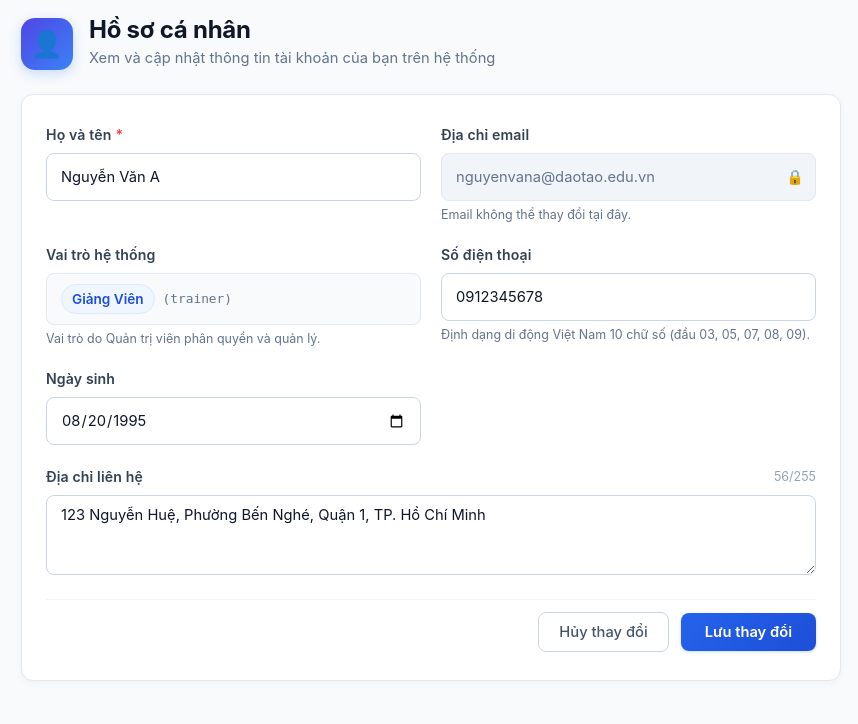
Test: SCRUM-120: Frontend Hồ sơ cá nhân (Activity A6) › 9. phone sai → không submit: hiển thị lỗi và chặn gửi request
Replace the text in the field with test id "input-profile-phone" with "0123456789" at (628,297), box [441,273,816,321]
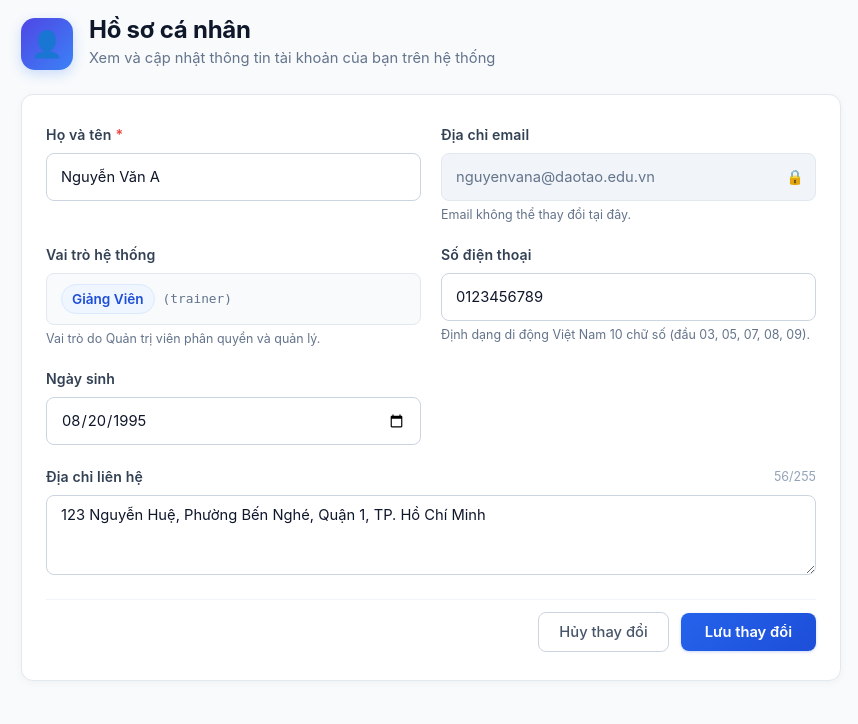
Click the button with test id "btn-save-profile" at (748,632), box [681,613,816,651]
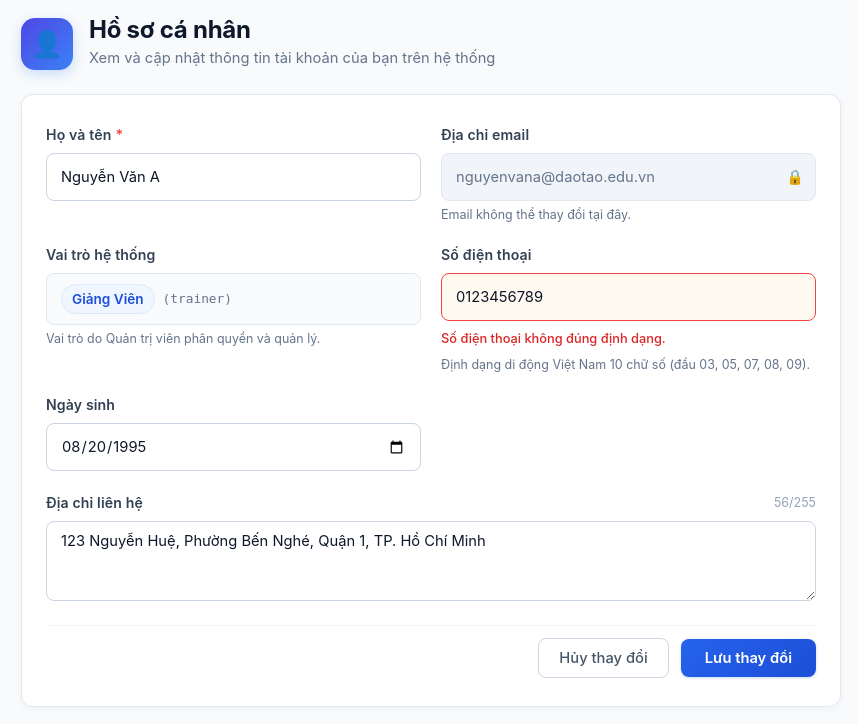
Expected: the message with test id "error-phone" reads "Số điện thoại không đúng định dạng.", [441,331,666,346]
